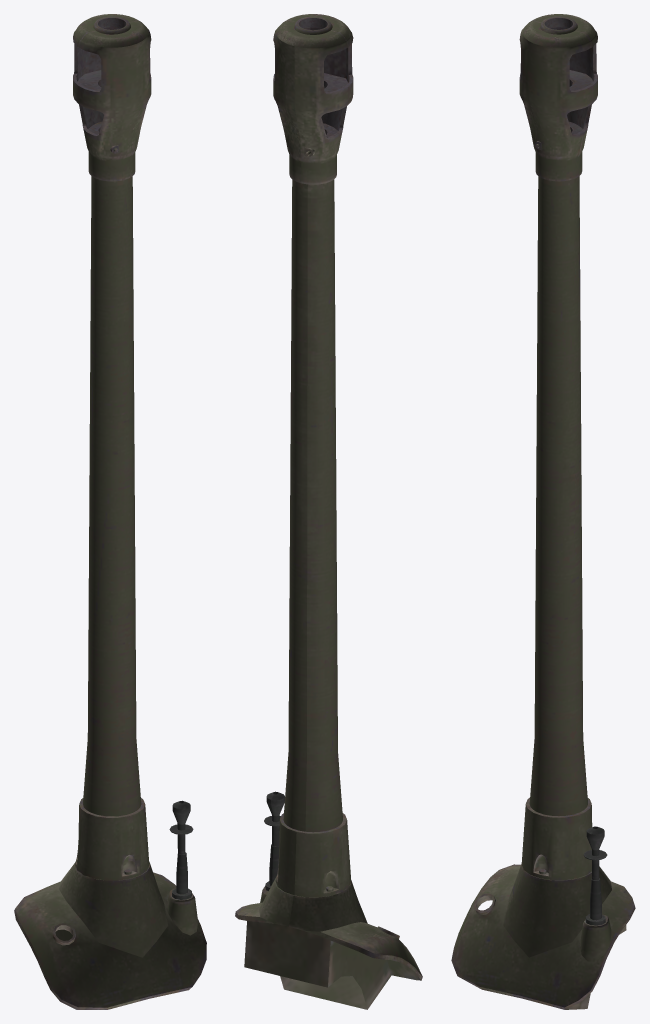
The model's file is Gun_01.glb.
3 renders of one model, left to right at view 1: azimuth 30°, elevation 25°; view 2: azimuth 150°, elevation 25°; view 3: azimuth 330°, elevation 25°, orthographic. The views are drawn at different scales.
Parts seen in each view (by area): view 1: set_0_group_0; view 2: set_0_group_0; view 3: set_0_group_0.
Boxes of the visible parts, x1,y1,x2,y2 form: set_0_group_0: (14, 14, 206, 1009); set_0_group_0: (235, 14, 422, 1009); set_0_group_0: (451, 14, 635, 1009).
Size of the model in its own units: 0.7603 by 4.65 by 0.5619.
1 material, 1 textured.
